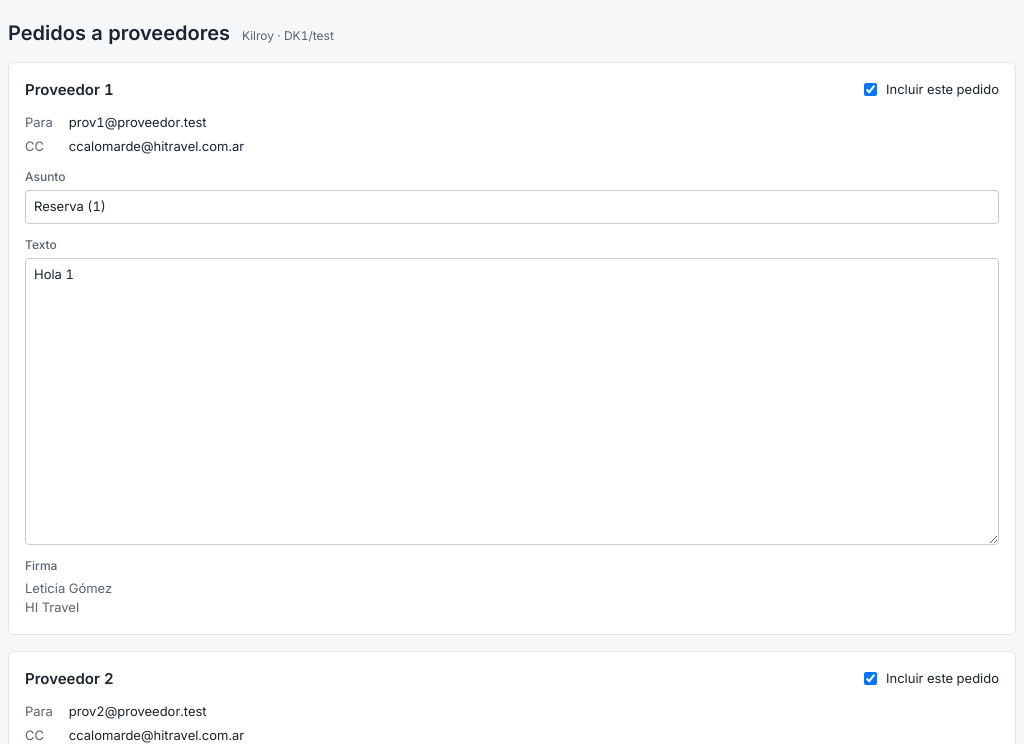
Test case: enviar desde el diálogo (filas 6, 7 y 10) › un pedido que otro ya mandó: lo dice en su tarjeta sin mandarlo de nuevo
Click the checkbox labelled "Incluir este pedido" in the row of "Proveedor 2" at (870, 679), box 864,672 -> 877,685
(page scrolled)
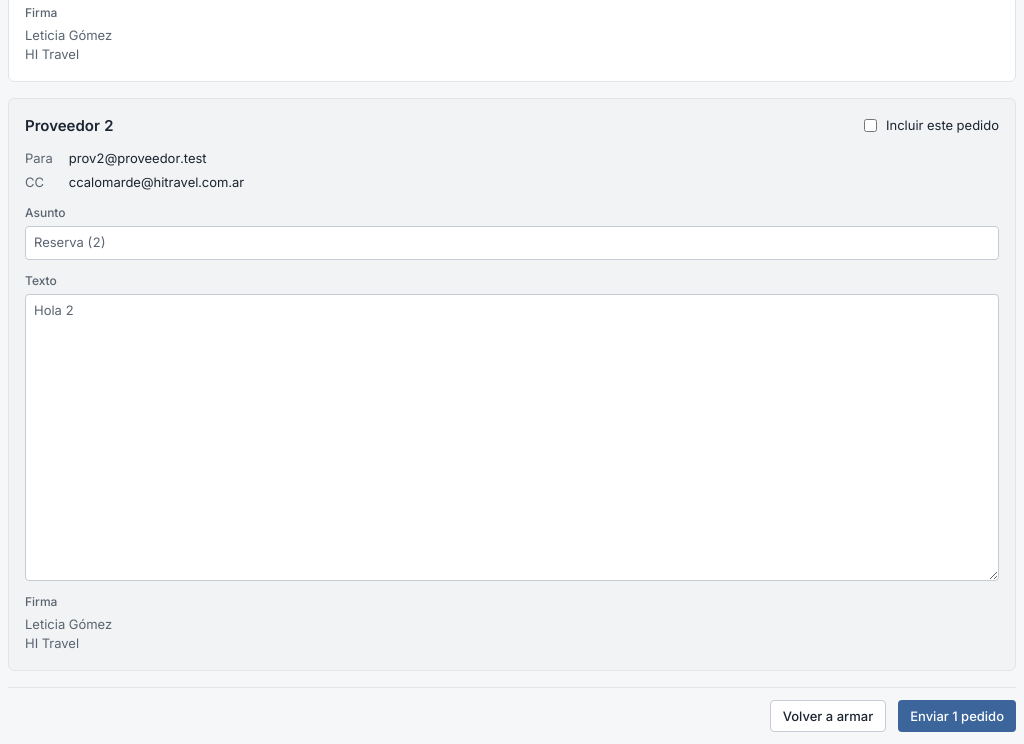
Click the button "Enviar 1 pedido" at (957, 716), box 898,700 -> 1016,732
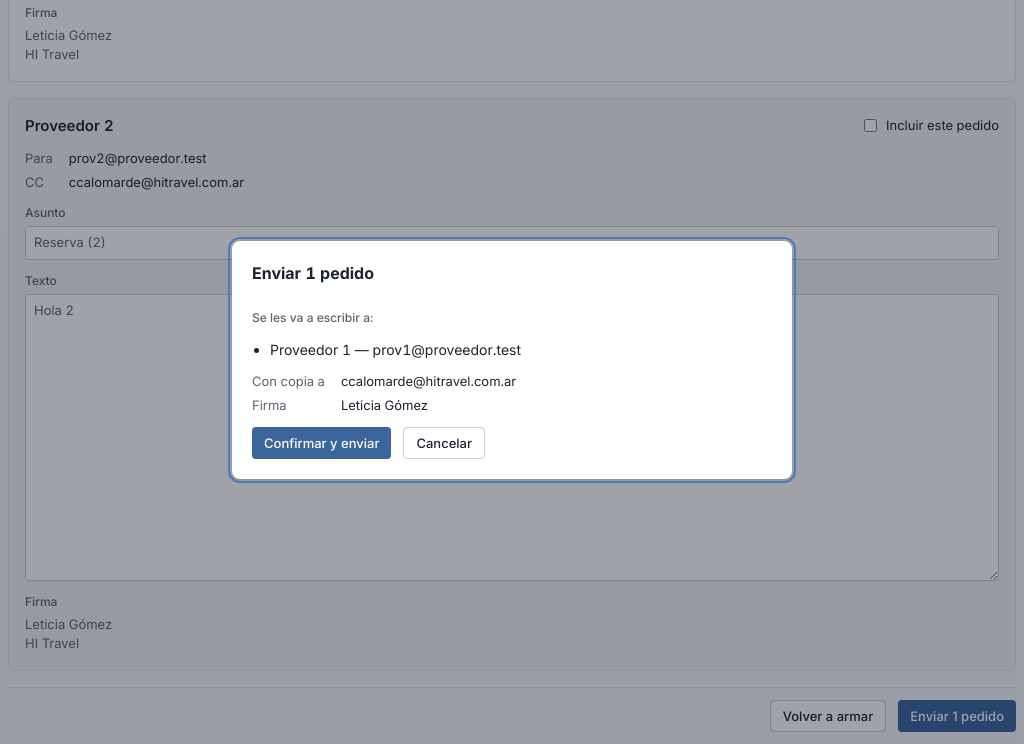
Click the button "Confirmar y enviar" at (322, 443), box 252,427 -> 391,459
(page scrolled)
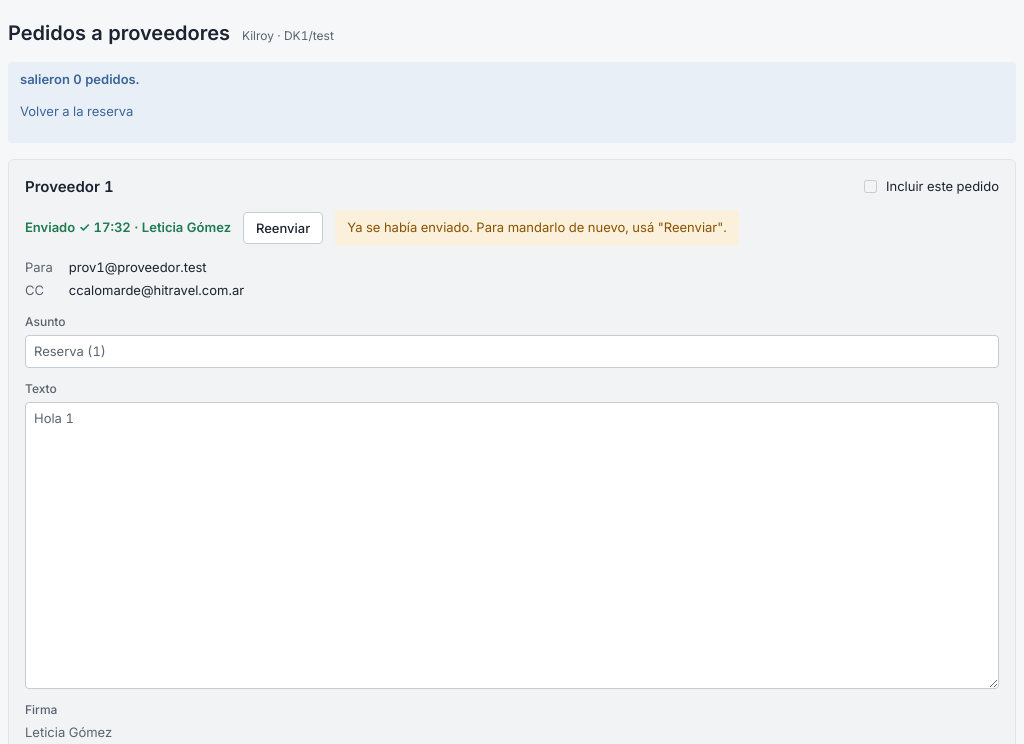
Expected: the text "Ya se había enviado. Para mandarlo de nuevo, usá \"Reenviar\"." is shown, 335,210 -> 739,246
